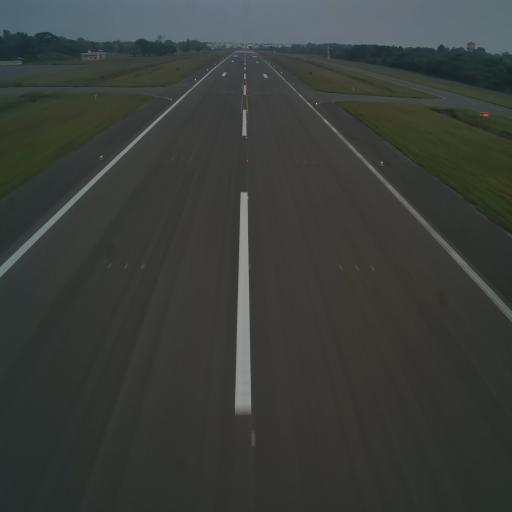off: (139, 259, 146, 272), (338, 261, 345, 274), (122, 261, 130, 271), (369, 260, 375, 272), (354, 263, 360, 274), (108, 261, 113, 273), (188, 156, 193, 164), (171, 155, 175, 164), (180, 156, 184, 164), (303, 159, 307, 166), (312, 159, 316, 166), (295, 159, 299, 165)
on: (247, 424, 259, 452), (247, 260, 252, 272), (98, 152, 104, 162), (380, 159, 385, 167), (245, 157, 250, 164), (246, 194, 250, 202), (245, 134, 249, 141)
